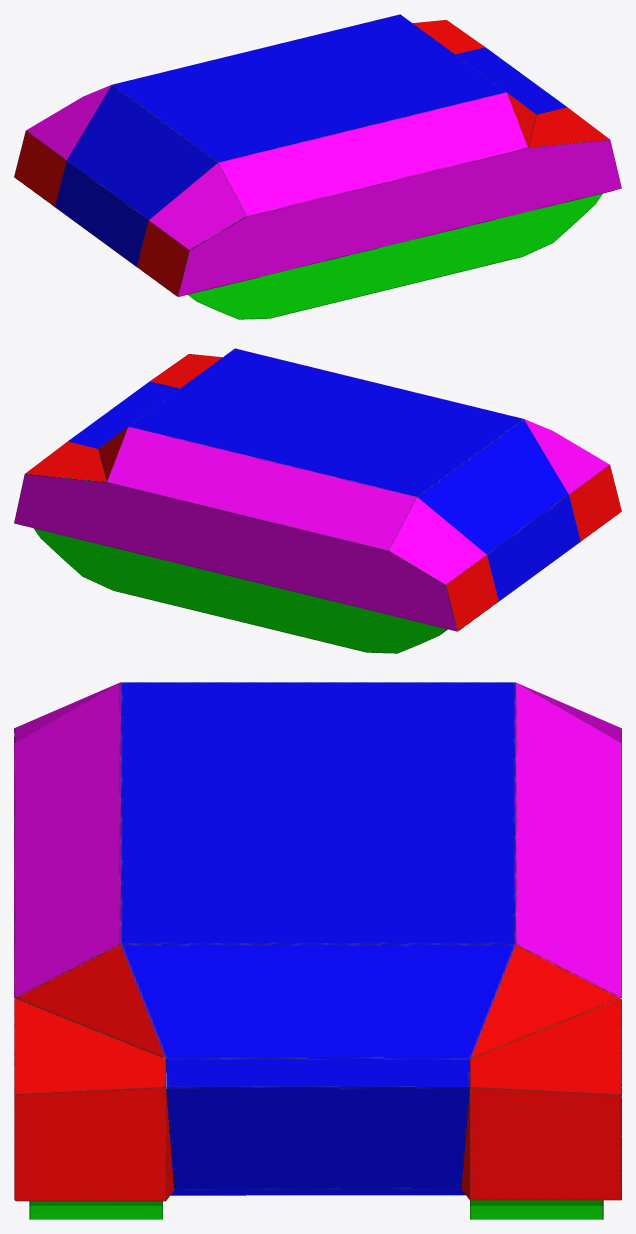
File: Body.obj
The picture shows the model from 3 angles, top to bottom: view 1: azimuth 30°, elevation 25°; view 2: azimuth 150°, elevation 25°; view 3: azimuth 270°, elevation 25°; orthographic projection. The views are drawn at different scales.
Visible parts, largest first — view 1: Body; view 2: Body; view 3: Body.
Boxes of the visible parts, left/top/right/bottom form: Body: left=14, top=14, right=621, bottom=319; Body: left=14, top=348, right=621, bottom=653; Body: left=14, top=682, right=621, bottom=1219.
Bounding box in the file's own units: 6.26 × 1.95 × 4.
